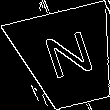N_S: (37, 28, 99, 88)
